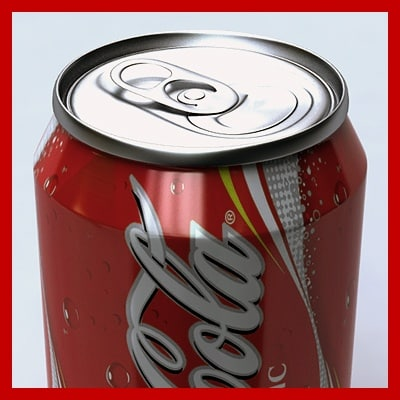coke: (115, 186, 279, 397)
